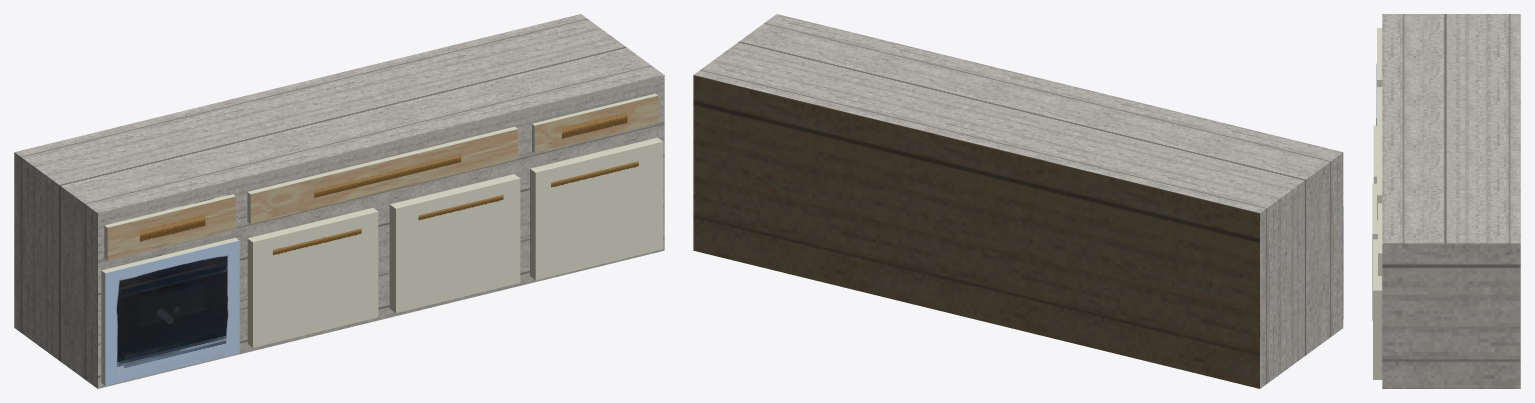
File: kitchen_counter_1.fbx
3 renders of one model, left to right at view 1: azimuth 30°, elevation 25°; view 2: azimuth 150°, elevation 25°; view 3: azimuth 270°, elevation 25°, orthographic. The views are drawn at different scales.
Parts seen in each view (by area): view 1: kuchynska linka; view 2: kuchynska linka; view 3: kuchynska linka.
Part boxes in pixels (bbox=[...]): kuchynska linka: bbox=[14, 14, 664, 388]; kuchynska linka: bbox=[693, 14, 1343, 388]; kuchynska linka: bbox=[1372, 14, 1520, 388].
Bounding box in the file's own units: 242 × 71.71 × 66.2.
